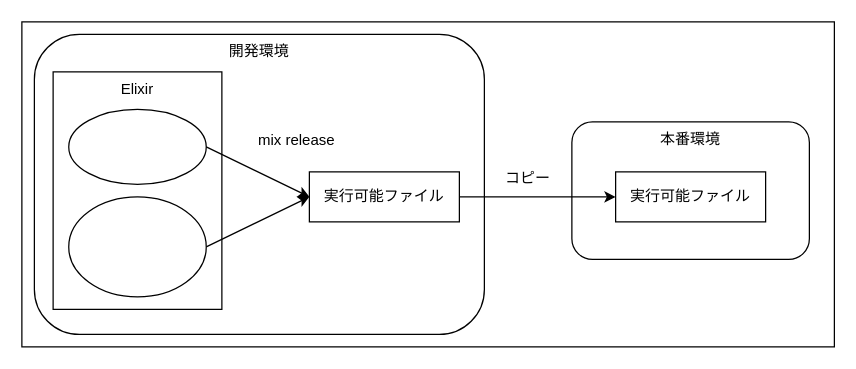
Image size: 856x369. Some labels were removed from this diagram. Here are the shapes that lost their labels. From the top down, the centre of each, then its label:
At (x=137, y=146): "ソースコード".
At (x=137, y=246): "依存 パッケージなど".
